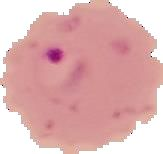parasitized: (31, 40, 95, 89)
